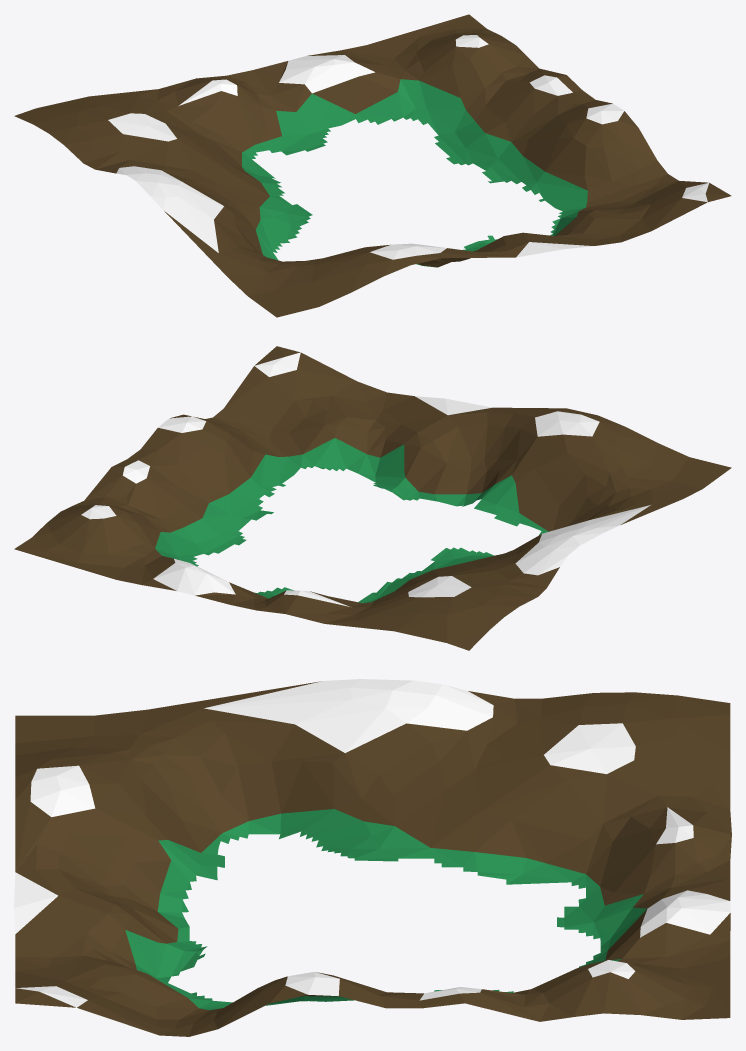
Rendered from Mountain.fbx.
3 renders of one model, top to bottom at view 1: azimuth 30°, elevation 25°; view 2: azimuth 150°, elevation 25°; view 3: azimuth 270°, elevation 25°, orthographic. The views are drawn at different scales.
Parts seen in each view (by area): view 1: Mountain; view 2: Mountain; view 3: Mountain.
Part boxes in pixels (bbox=[...]): Mountain: bbox=[14, 14, 731, 317]; Mountain: bbox=[14, 346, 731, 650]; Mountain: bbox=[14, 679, 731, 1036].
Size of the model in its own units: 150260 by 23400 by 150635.
